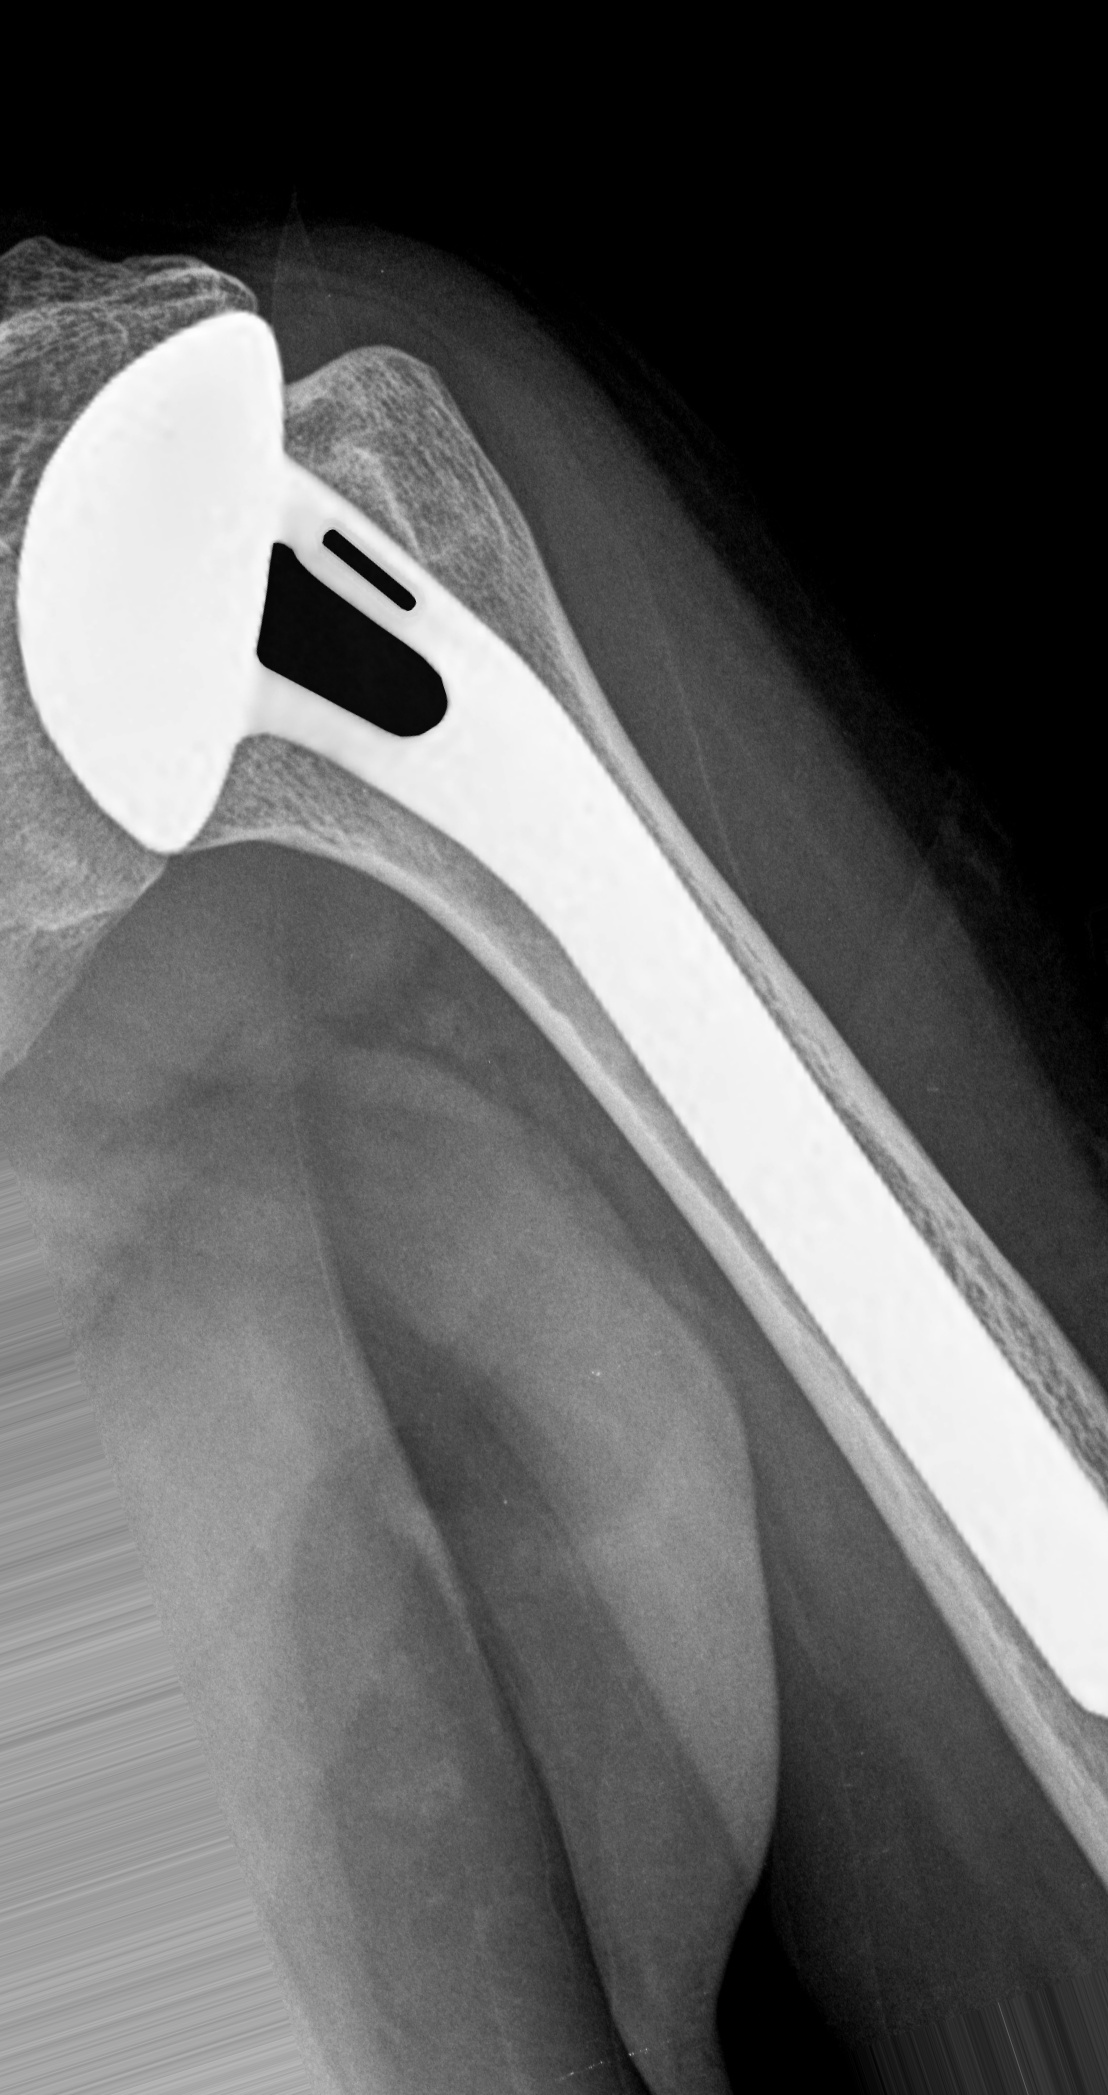Shoulder - AequalisFracture - Tornier: (17, 269, 475, 866)
